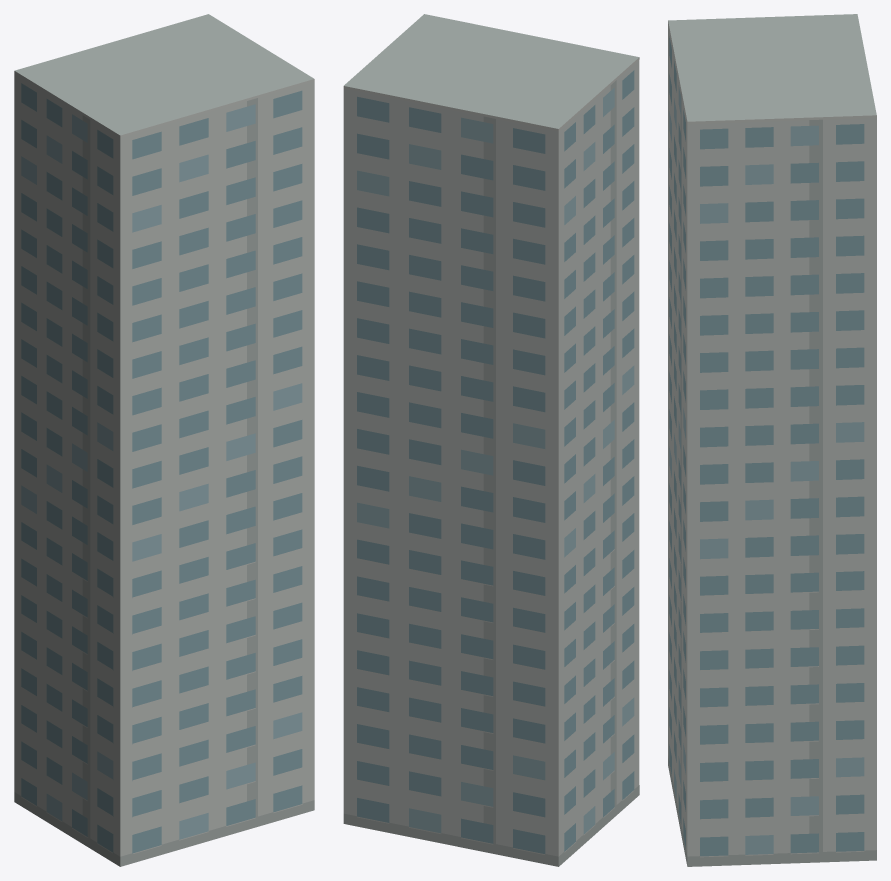
File: residential-4f705d72-bc39-46ec-951b-ac5a4fa3a061.glb
3 views of the same model, side by side, from view 1: azimuth 30°, elevation 25°; view 2: azimuth 150°, elevation 25°; view 3: azimuth 270°, elevation 25° (orthographic).
Visible parts, largest first — view 1: residential-4f705d72-bc39-46ec-951b-ac5a4fa3a061.tmp; view 2: residential-4f705d72-bc39-46ec-951b-ac5a4fa3a061.tmp; view 3: residential-4f705d72-bc39-46ec-951b-ac5a4fa3a061.tmp.
Boxes of the visible parts, bbox=[...] form: residential-4f705d72-bc39-46ec-951b-ac5a4fa3a061.tmp: bbox=[14, 14, 314, 866]; residential-4f705d72-bc39-46ec-951b-ac5a4fa3a061.tmp: bbox=[343, 14, 639, 866]; residential-4f705d72-bc39-46ec-951b-ac5a4fa3a061.tmp: bbox=[668, 14, 876, 866].
Bounding box in the file's own units: 22.34 × 72 × 18.29.
